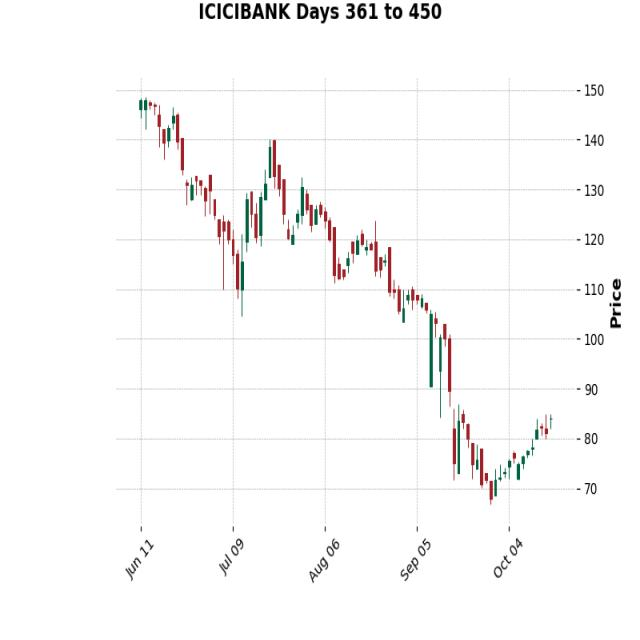Symmetric Triangle: (222, 132, 357, 295)
